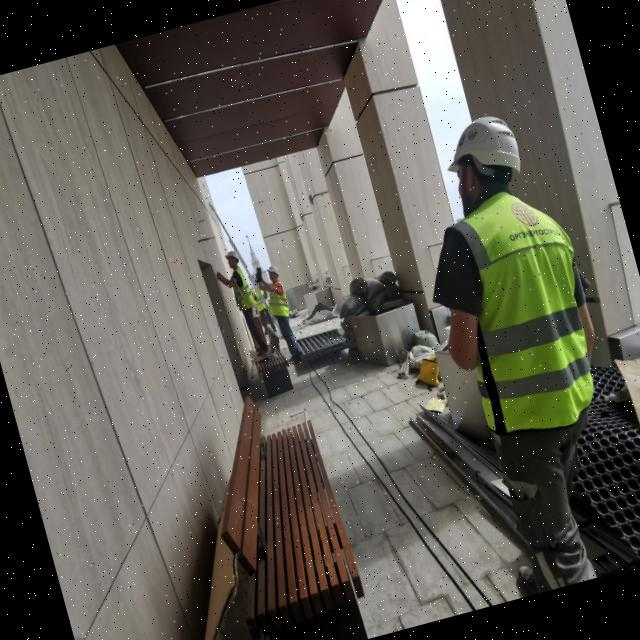Helmet: (436, 110, 527, 191), (224, 250, 240, 265), (266, 264, 280, 278)
Jacket: (438, 173, 605, 442), (227, 264, 254, 313), (266, 278, 291, 319), (254, 287, 268, 312)
